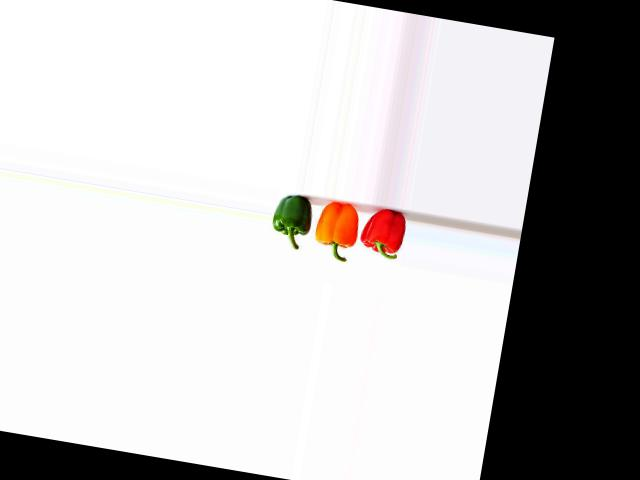bell_pepper: (356, 206, 410, 271)
